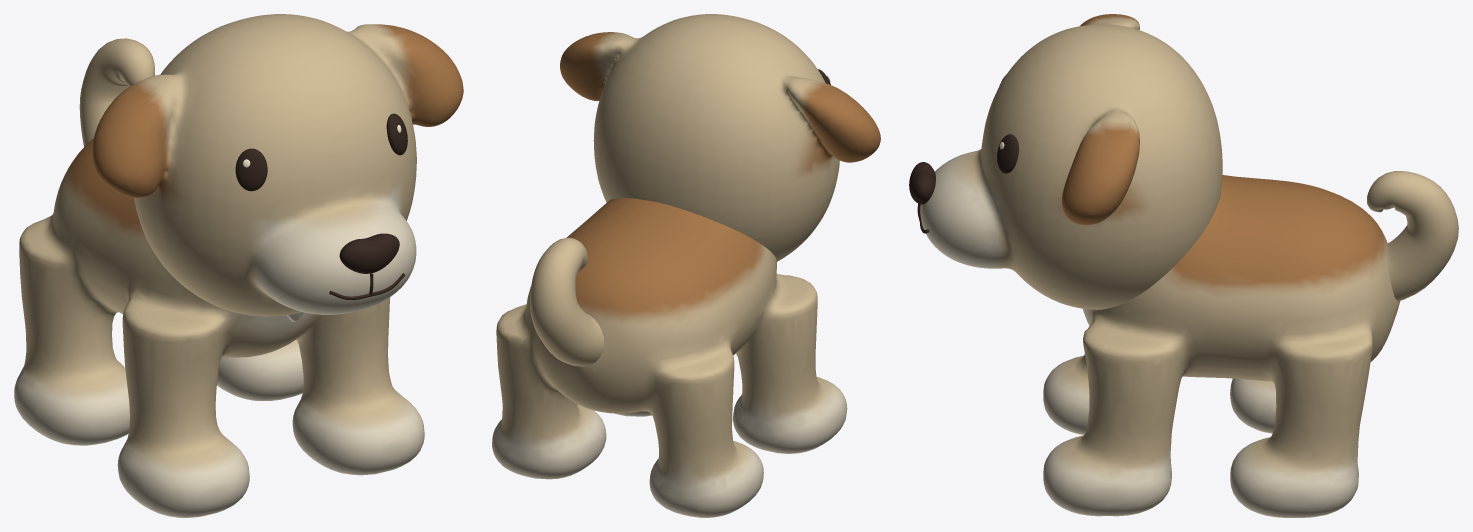
The model's file is puppy.glb.
3 renders of one model, left to right at view 1: azimuth 30°, elevation 25°; view 2: azimuth 150°, elevation 25°; view 3: azimuth 270°, elevation 25°, orthographic. The views are drawn at different scales.
Visible parts, largest first — view 1: PuppyV2_Head, PuppyV2_Body, PuppyV2_Tail, PuppyV2_Face; view 2: PuppyV2_Body, PuppyV2_Head, PuppyV2_Tail; view 3: PuppyV2_Body, PuppyV2_Head, PuppyV2_Tail, PuppyV2_Face.
Part boxes in pixels (x1,y1,x2,y2): PuppyV2_Head: [92, 14, 463, 316]; PuppyV2_Body: [14, 138, 424, 517]; PuppyV2_Tail: [79, 38, 154, 146]; PuppyV2_Face: [235, 113, 407, 299]; PuppyV2_Body: [492, 197, 847, 517]; PuppyV2_Head: [560, 14, 880, 261]; PuppyV2_Tail: [530, 237, 604, 366]; PuppyV2_Body: [1043, 175, 1400, 517]; PuppyV2_Head: [920, 14, 1222, 309]; PuppyV2_Tail: [1367, 171, 1458, 301]; PuppyV2_Face: [909, 74, 1018, 233].
Bounding box in the file's own units: 2.02 × 2.41 × 2.85.
